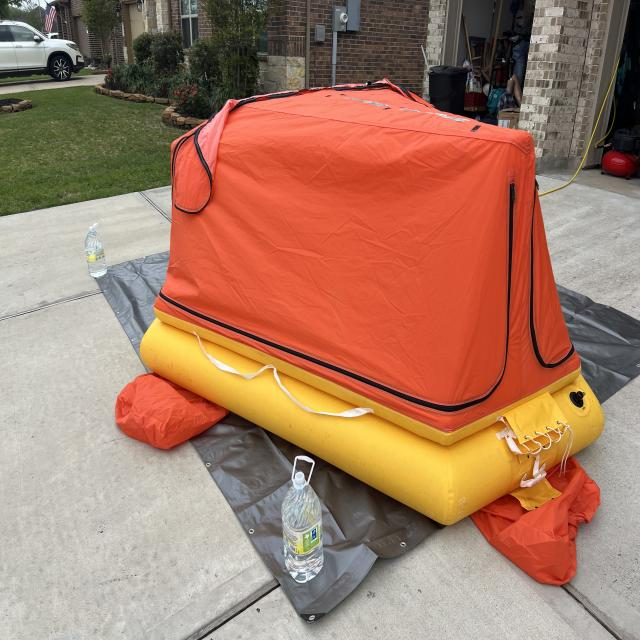Multi-person_life_raft: (114, 77, 604, 586)
